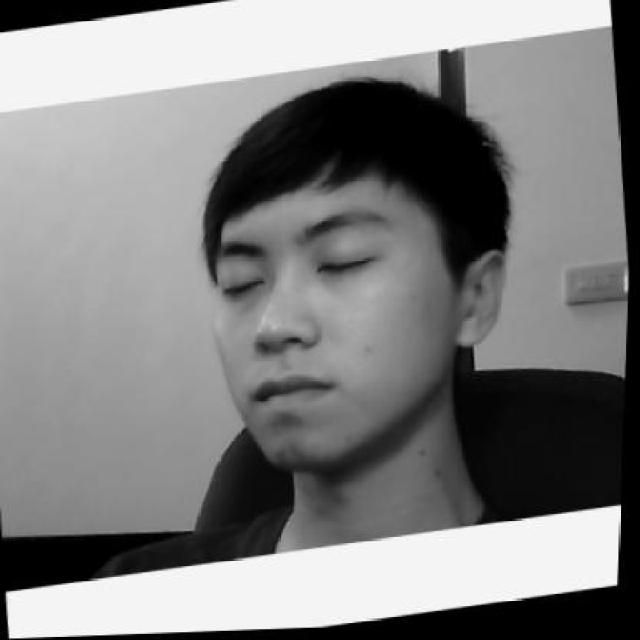inattentif: (186, 57, 532, 480)
